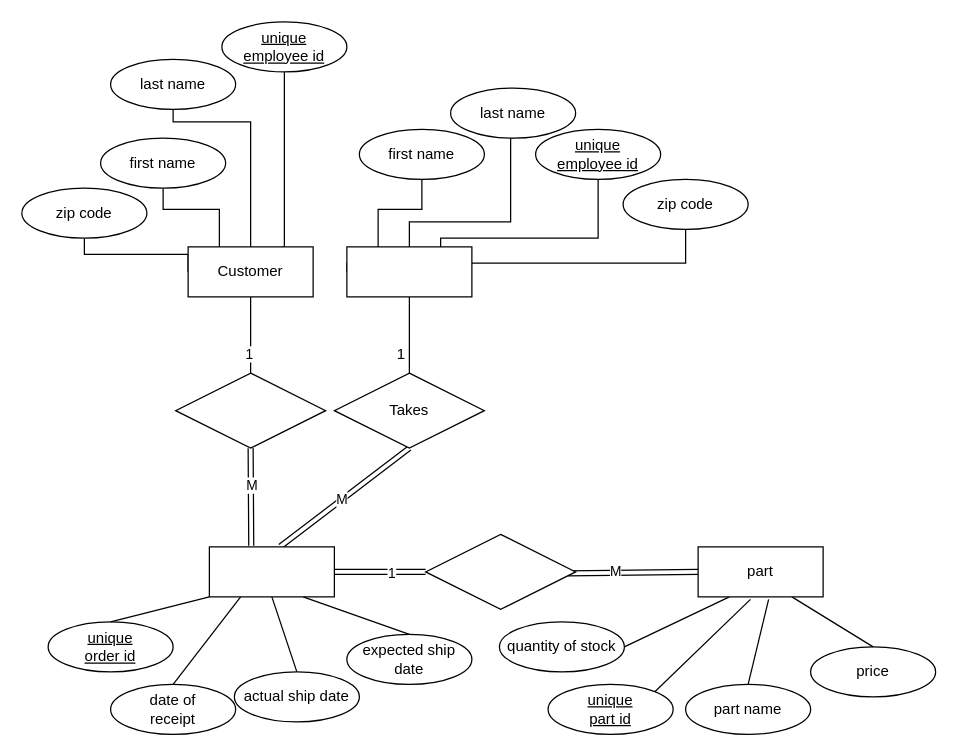
Image size: 958x756. Some labels were removed from this diagram. Here are the shapes that lost their labels. From the top down, the box of each, then its label:
(346, 246, 472, 297): Employee
(174, 372, 326, 448): places
(208, 546, 334, 597): order
(424, 533, 576, 609): contains
